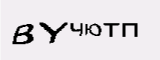В: (41, 23, 55, 40)
Г: (73, 24, 81, 39)
К: (59, 20, 70, 39)
Т: (100, 24, 121, 49)
Ч: (80, 20, 95, 45)
